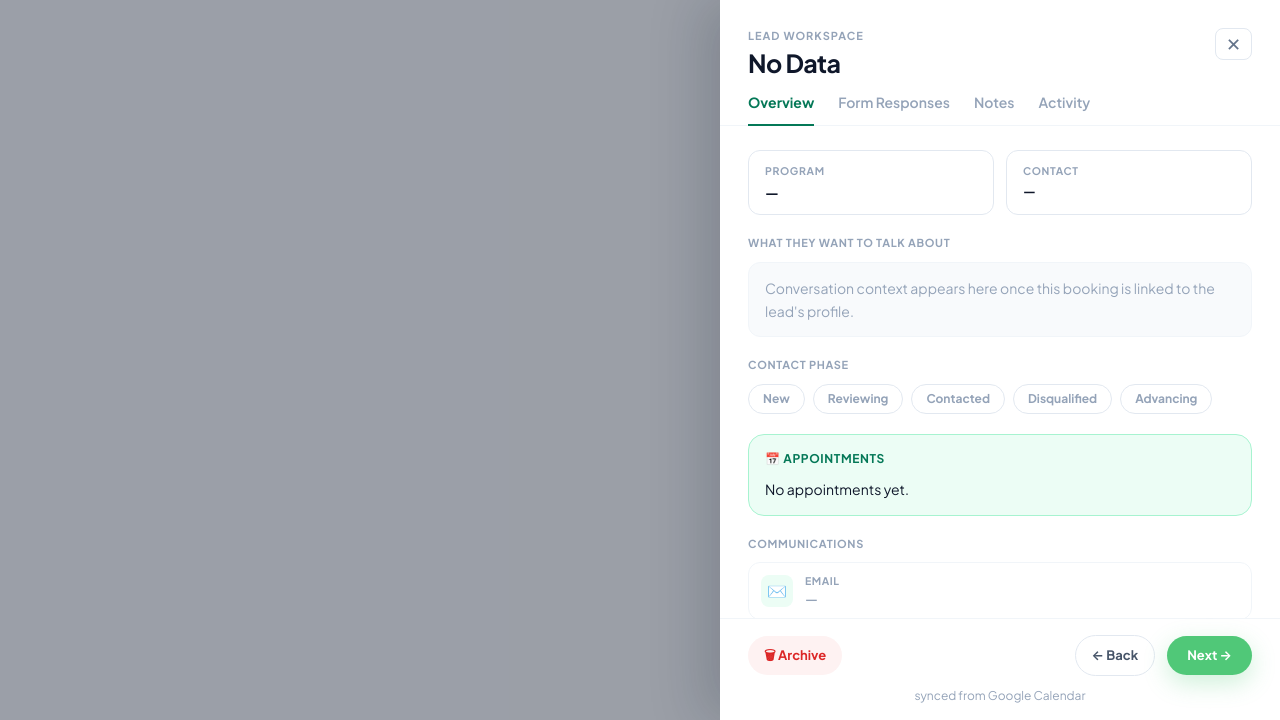
Test case: LeadWorkspacePanel › degrades to honest empty states when lead data is missing
The width and height of the screenshot is (1280, 720).
Expected: the text "Conversation context appears here" is shown, 765,279 -> 1215,320
Step 1. Click the tab "Form Responses" → x=894, y=108, box 838,92 -> 950,126
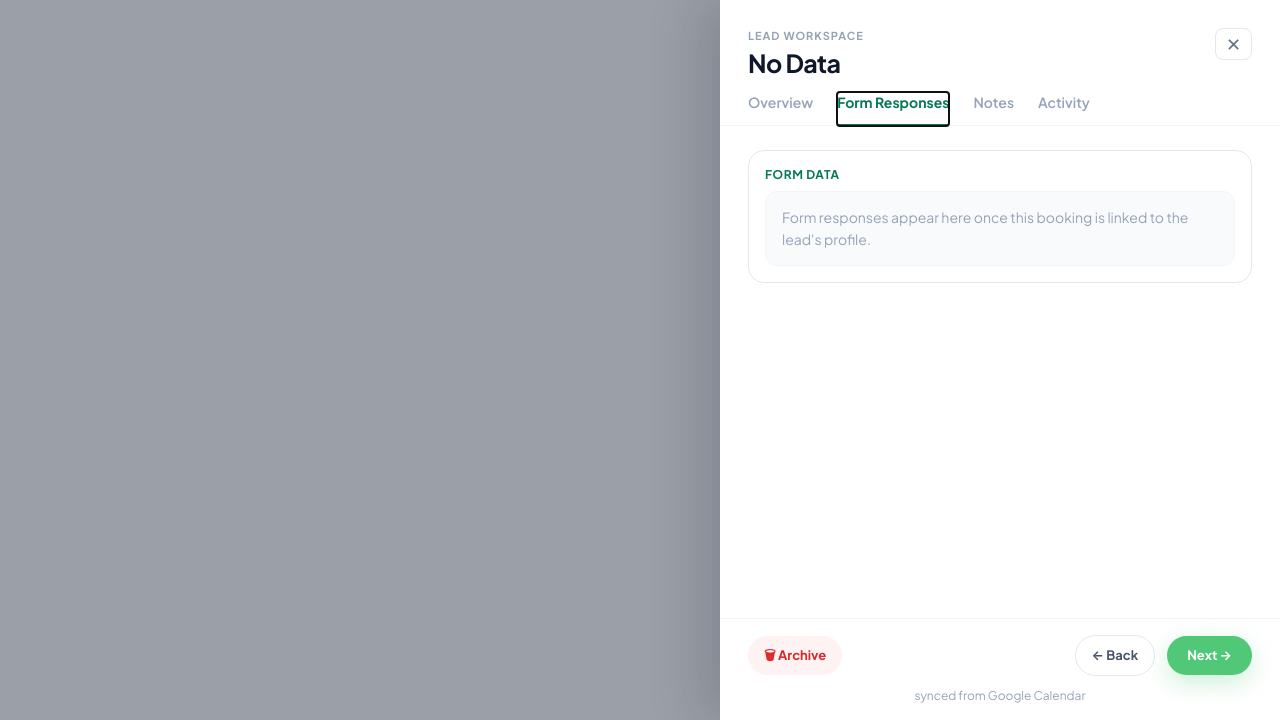
Result: the text "Form responses appear here" is shown at 782,208 -> 1188,248
